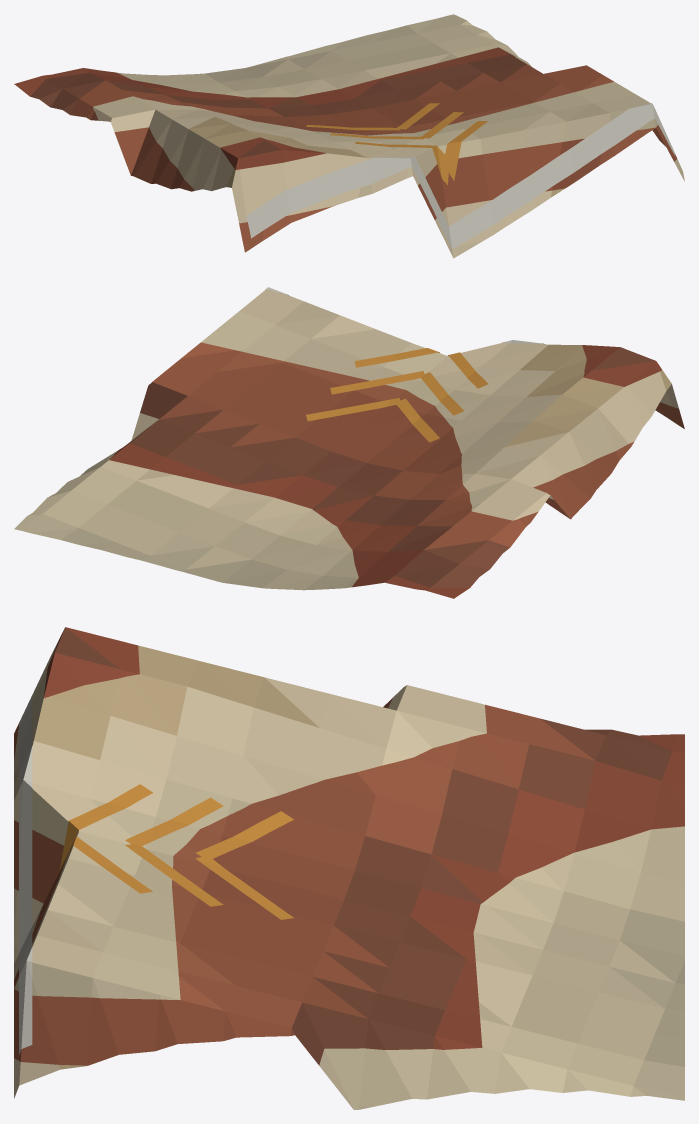
Rendered from dam_upper_slot_step.glb.
3 views of the same model, one above another, from view 1: azimuth 30°, elevation 25°; view 2: azimuth 150°, elevation 25°; view 3: azimuth 270°, elevation 25° (orthographic). The views are drawn at different scales.
Visible parts, largest first — view 1: dam_upper_slot_step; view 2: dam_upper_slot_step; view 3: dam_upper_slot_step.
Boxes of the visible parts, <box> form: dam_upper_slot_step: <box>14,14,684,258</box>; dam_upper_slot_step: <box>14,287,684,598</box>; dam_upper_slot_step: <box>14,627,684,1109</box>.
Bounding box in the file's own units: 22 × 6.55 × 20.
